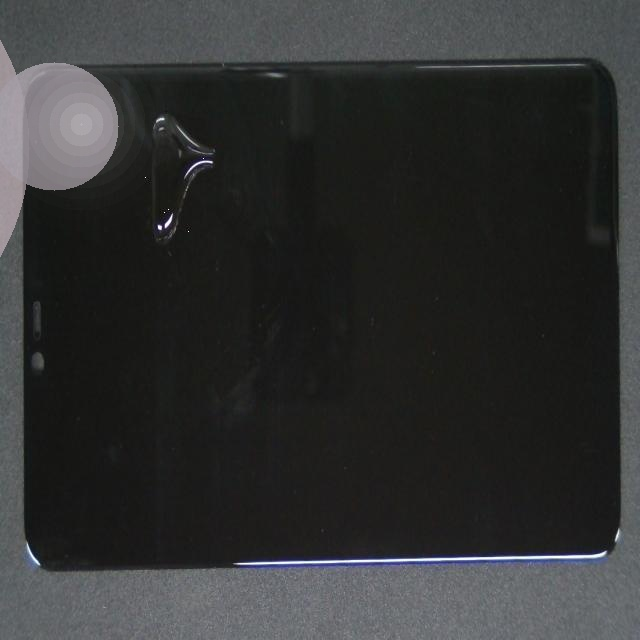oil: (67, 21, 223, 275)
